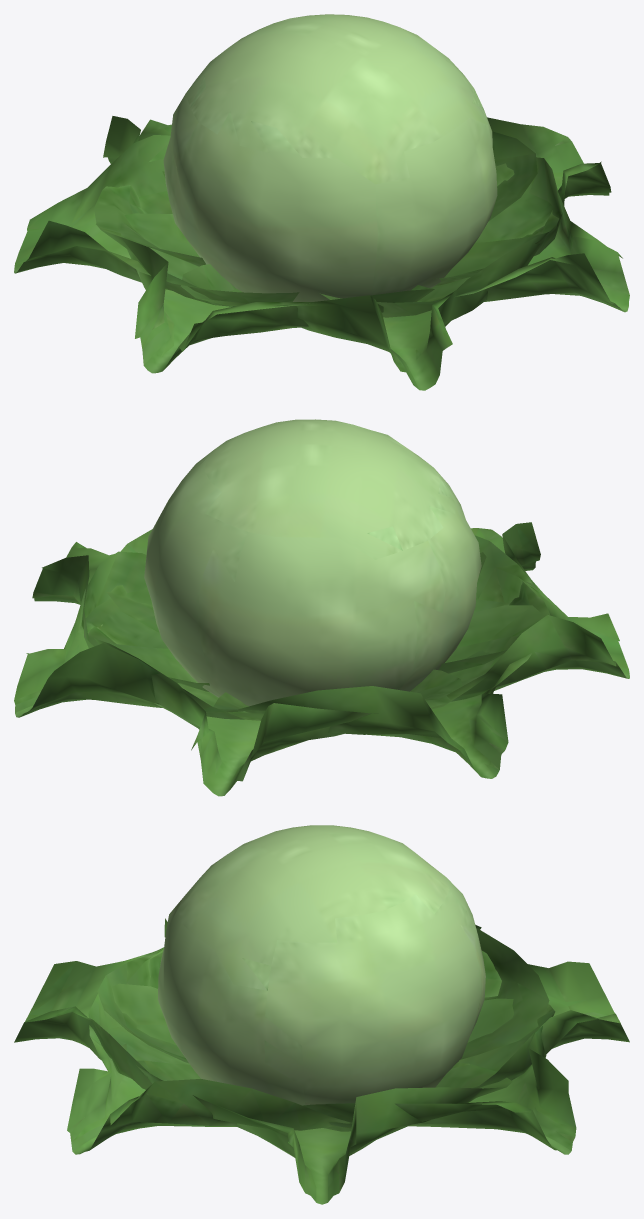
The model's file is crop_cabbage.glb.
3 views of the same model, one above another, from view 1: azimuth 30°, elevation 25°; view 2: azimuth 150°, elevation 25°; view 3: azimuth 270°, elevation 25° (orthographic).
Visible parts, largest first — view 1: fruit, crop_cabbage; view 2: fruit, crop_cabbage; view 3: fruit, crop_cabbage.
Part boxes in pixels (x1,y1,x2,y2): fruit: (163, 14, 497, 301); crop_cabbage: (14, 116, 629, 390); fruit: (144, 419, 481, 706); crop_cabbage: (14, 522, 629, 796); fruit: (158, 825, 485, 1105); crop_cabbage: (14, 918, 629, 1204).
Size of the model in its own units: 0.2748 by 0.135 by 0.2809.
1 material, 1 textured.
